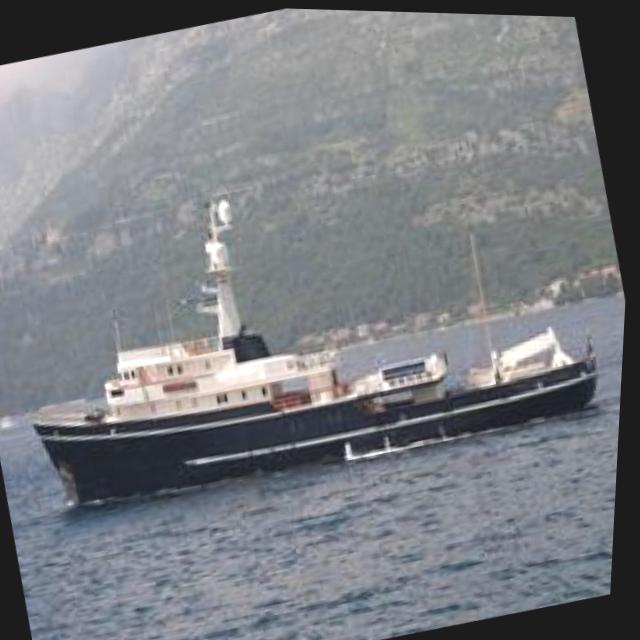ship2: (36, 197, 604, 507)
